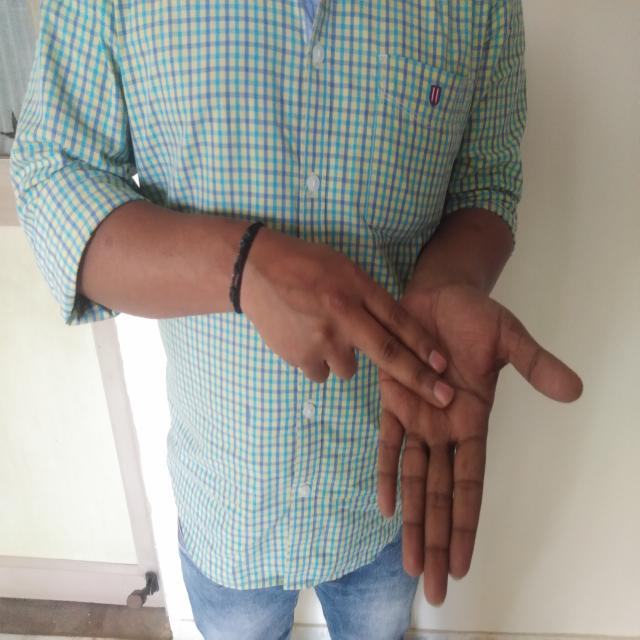N: (242, 200, 591, 616)
